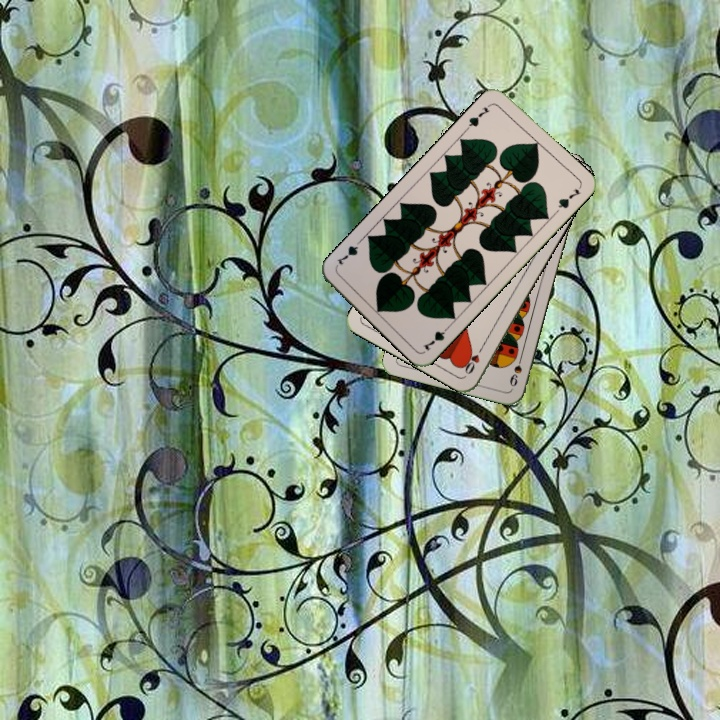G7: (419, 321, 453, 353), (463, 103, 492, 133)
HO: (461, 340, 487, 377)
S9: (506, 350, 525, 389)
